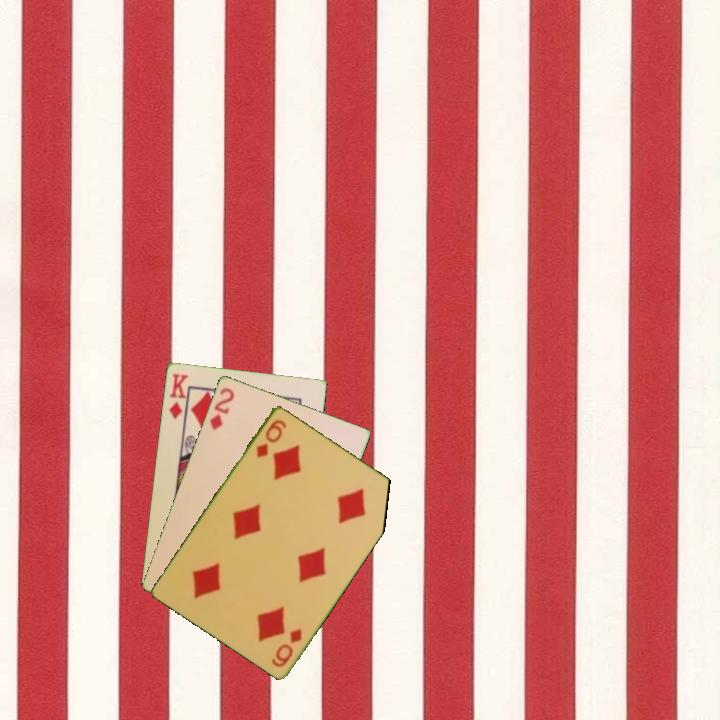2d: (206, 384, 237, 433)
6d: (268, 624, 305, 670), (253, 415, 289, 461)
Kd: (165, 370, 191, 422)
